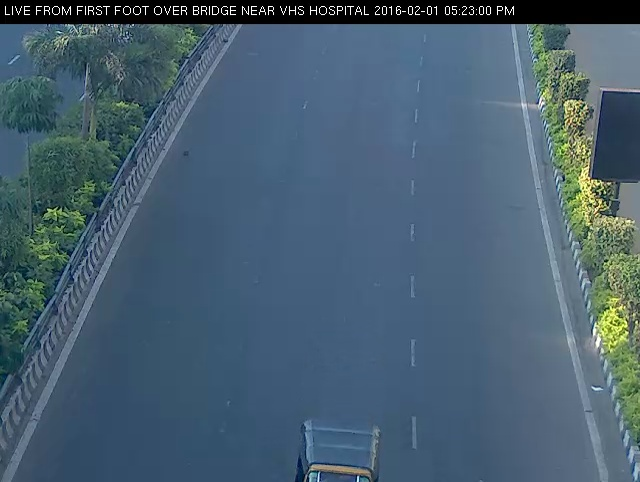Car: (277, 403, 399, 482)
